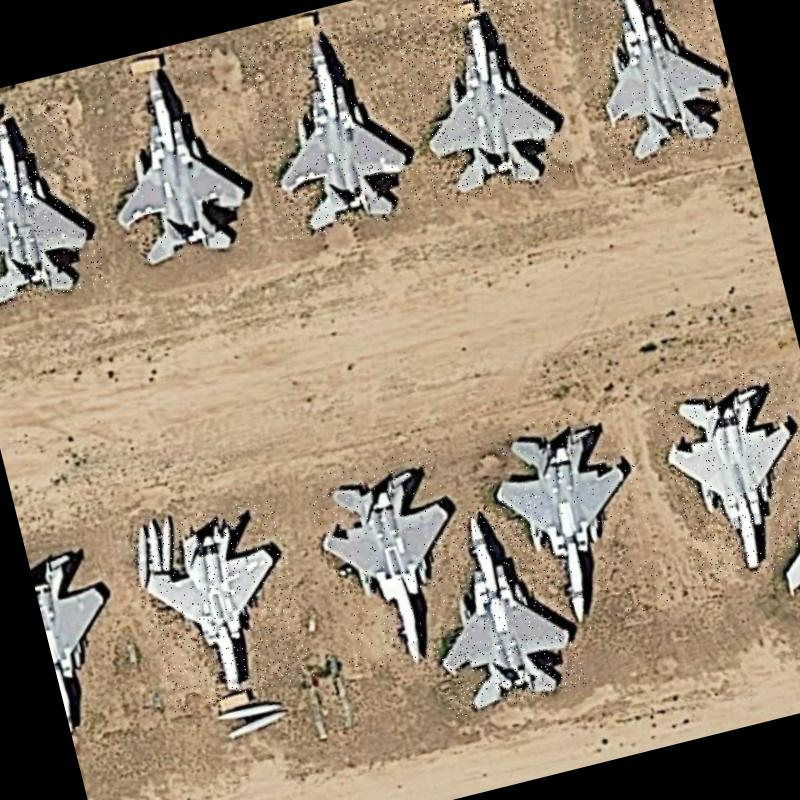A13: (480, 398, 670, 644), (236, 9, 430, 243), (303, 443, 488, 675), (123, 495, 316, 713), (404, 491, 586, 719), (82, 43, 260, 271), (388, 0, 576, 207), (650, 362, 800, 587), (562, 0, 745, 174), (0, 93, 110, 316)
